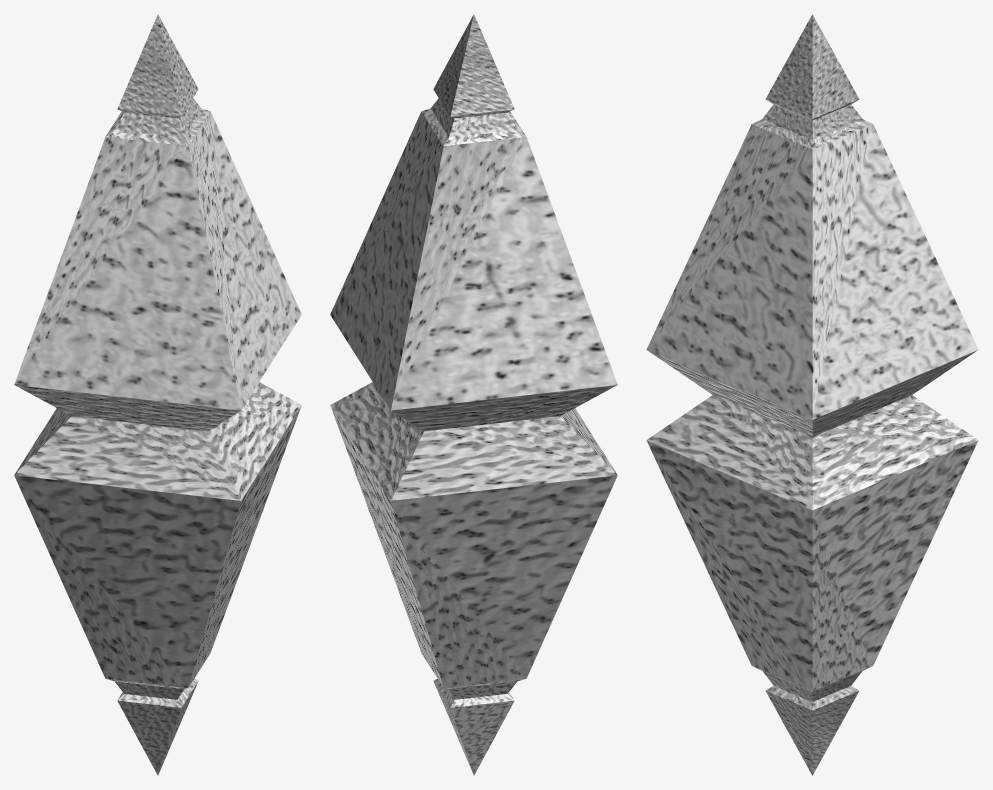
File: whethernium.fbx
3 renders of one model, left to right at view 1: azimuth 30°, elevation 25°; view 2: azimuth 150°, elevation 25°; view 3: azimuth 270°, elevation 25°, orthographic.
Visible parts, largest first — view 1: pCone1; view 2: pCone1; view 3: pCone1.
Part boxes in pixels (x1=…): pCone1: x1=14, y1=14, x2=301, y2=775; pCone1: x1=330, y1=14, x2=617, y2=775; pCone1: x1=646, y1=14, x2=978, y2=775.
Bounding box in the file's own units: 2 × 5.06 × 2.
Materials: 1 (1 with a texture image).
